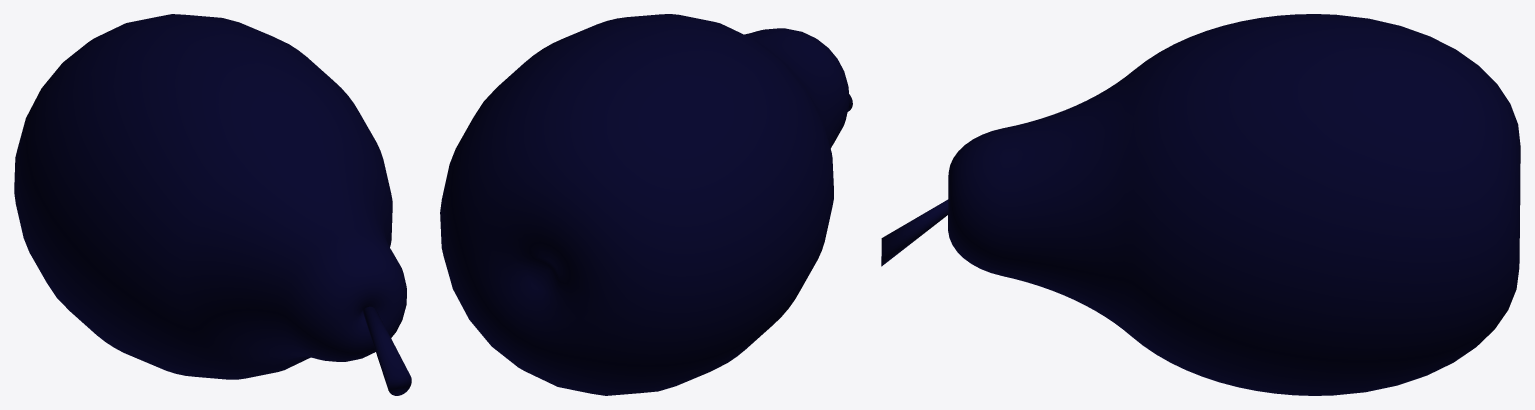
Rendered from pear1_1.dae.
The picture shows the model from 3 angles, left to right: view 1: azimuth 30°, elevation 25°; view 2: azimuth 150°, elevation 25°; view 3: azimuth 270°, elevation 25°; orthographic projection. The views are drawn at different scales.
Parts seen in each view (by area): view 1: scrap1; view 2: scrap1; view 3: scrap1.
Boxes of the visible parts, left/top/right/bottom form: scrap1: left=14, top=14, right=411, bottom=395; scrap1: left=440, top=14, right=852, bottom=395; scrap1: left=881, top=14, right=1520, bottom=395.
Size of the model in its own units: 0.045 by 0.0753 by 0.045.
